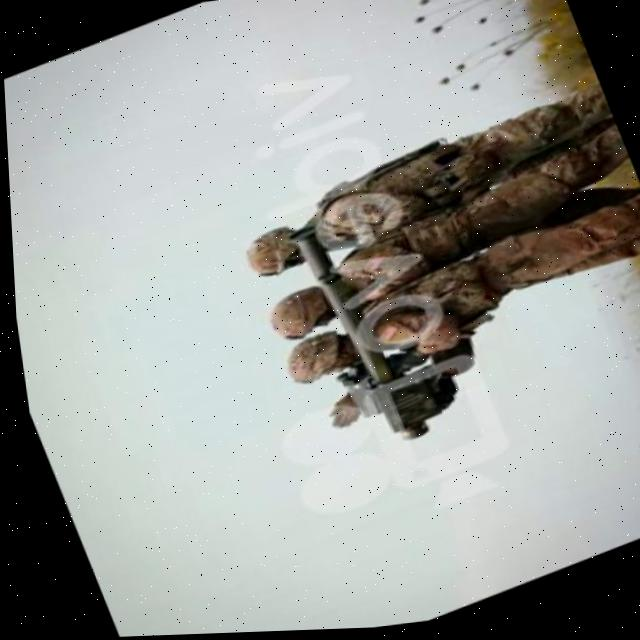rocket: (279, 208, 425, 463)
